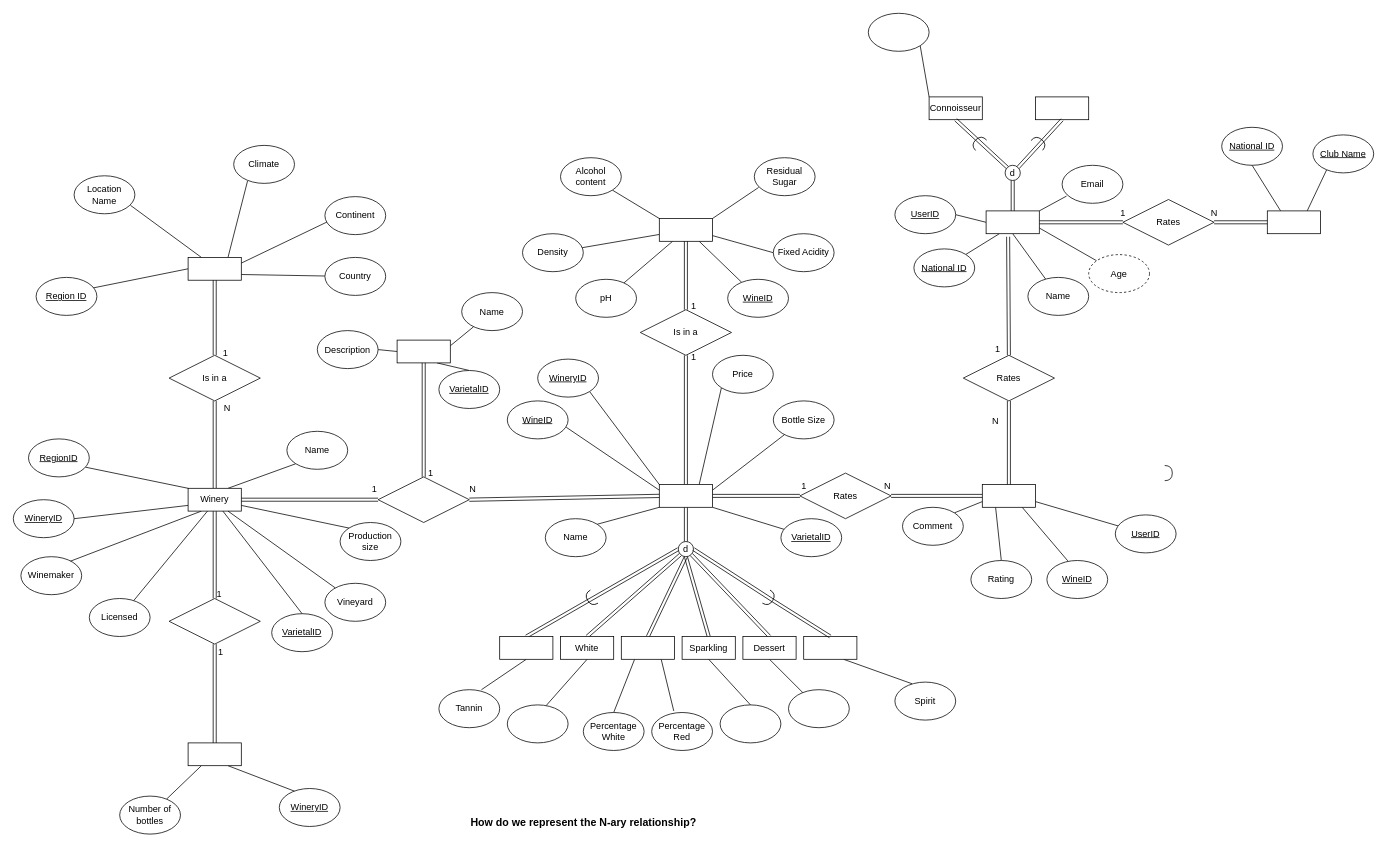
Image size: 1387x847. Some labels were removed from this diagram. Each missing label, with the box of its shape:
Carbon content: (719, 704, 781, 743)
CertificateID: (868, 13, 929, 51)
Fortified: (803, 636, 857, 659)
Grape Varietal: (396, 339, 450, 363)
Has: (168, 598, 260, 644)
Inventory: (187, 742, 241, 766)
Novice: (1035, 96, 1089, 120)
Produces: (377, 476, 469, 522)
Quality: (659, 218, 712, 241)
Red: (499, 636, 553, 659)
Region: (187, 257, 241, 280)
Reviews: (982, 484, 1036, 507)
Rosé: (621, 636, 674, 659)
Shade: (507, 704, 568, 743)
Style: (788, 689, 849, 728)
Users: (985, 210, 1039, 234)
Wine: (659, 484, 712, 507)
Wine Club Membership: (1267, 210, 1320, 234)
